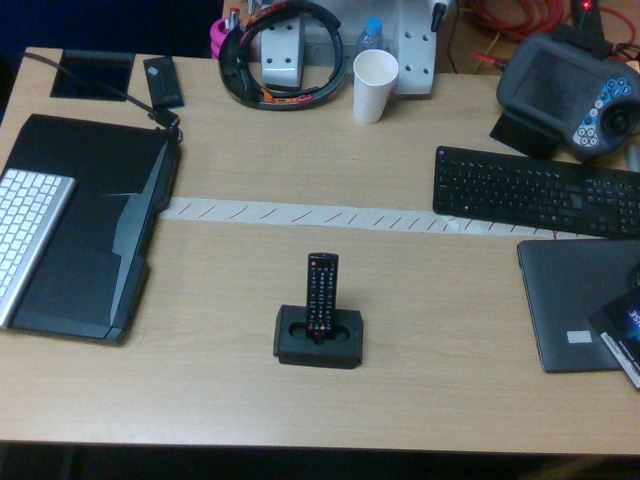remote: (305, 251, 340, 339)
